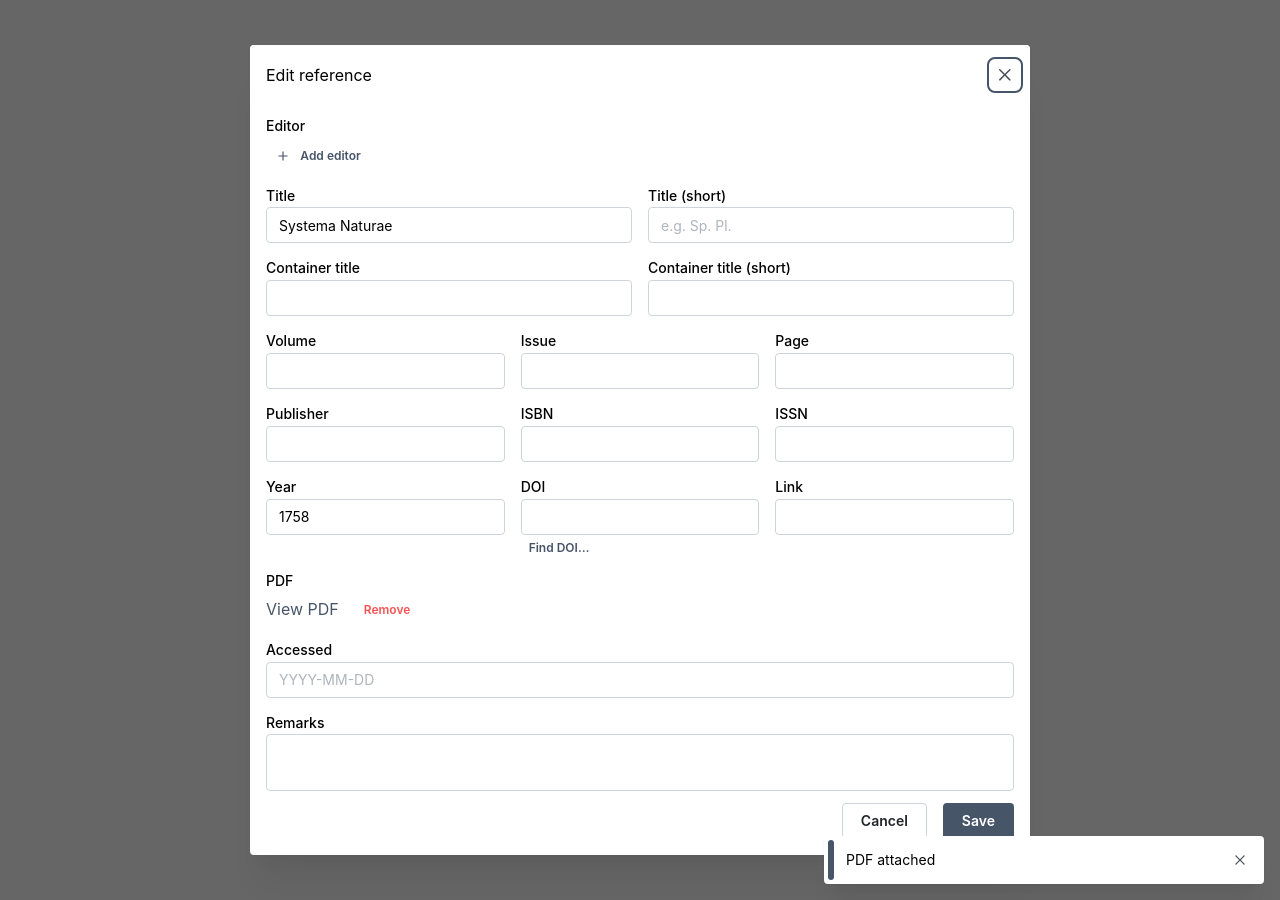
Test case: Remove deletes the PDF and returns to the FileInput
(page scrolled)
Expected: the link "View PDF" is shown, [266, 598, 339, 622]
Click the button "Remove".
click(387, 610)  # box [349, 595, 425, 625]
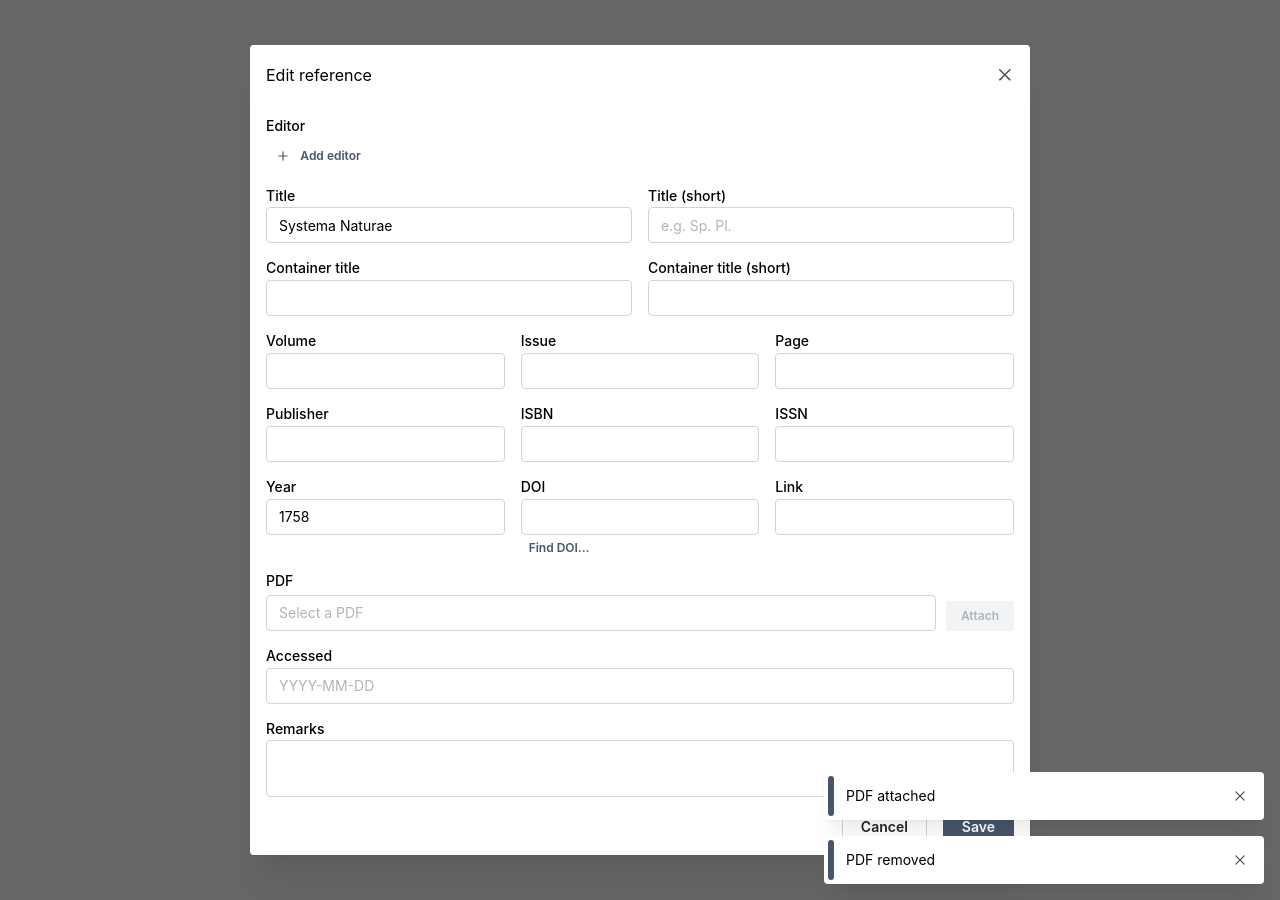
Expected: the button "Attach" is shown, [946, 601, 1014, 631]
Expected: the link "View PDF" is gone
